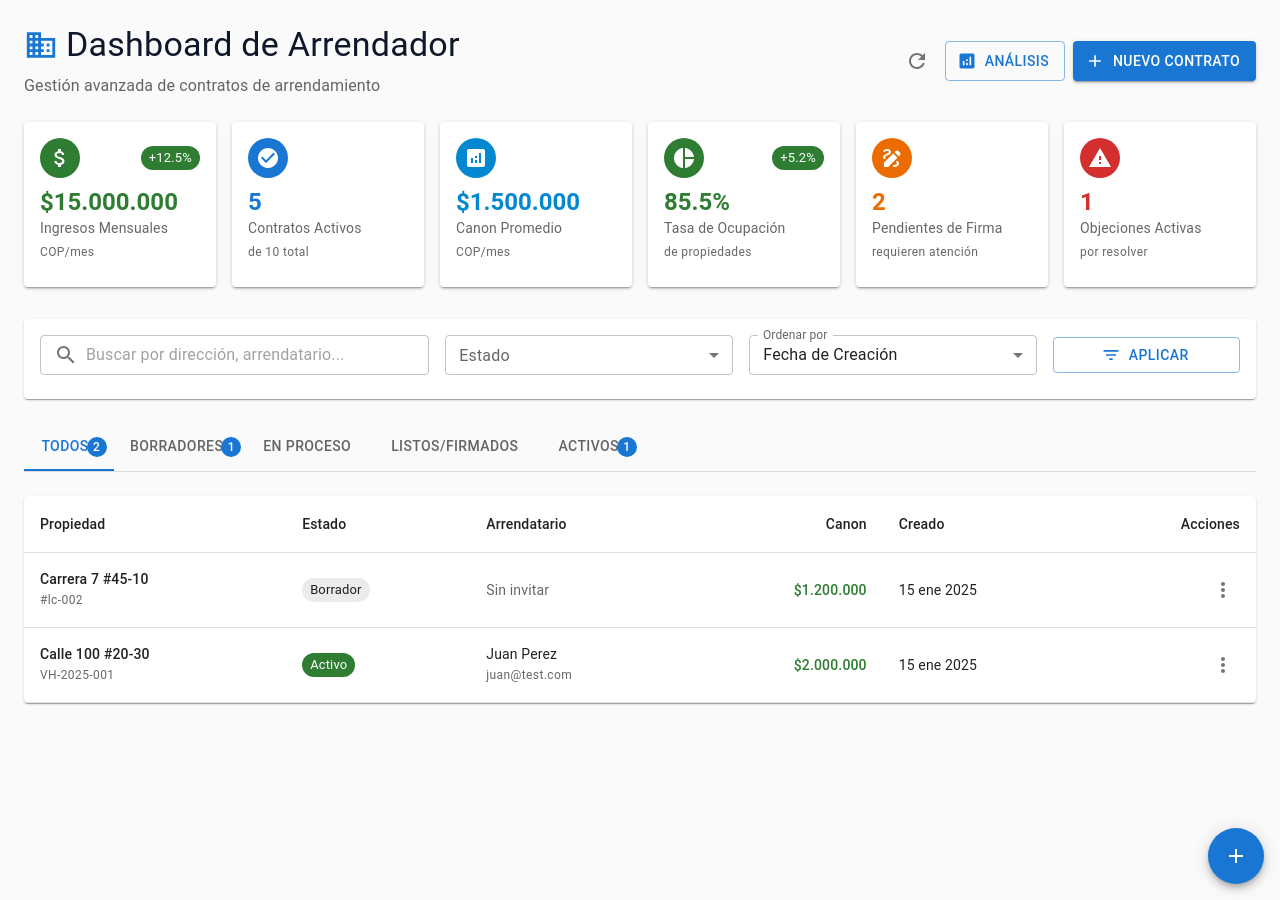
Test: LandlordContractsDashboard › should open create dialog when Nuevo Contrato is clicked
This screenshot has width=1280, height=900.
# Click the header button (not the FAB)
Click the button "Nuevo Contrato" at [1164, 61], box [1073, 41, 1256, 81]
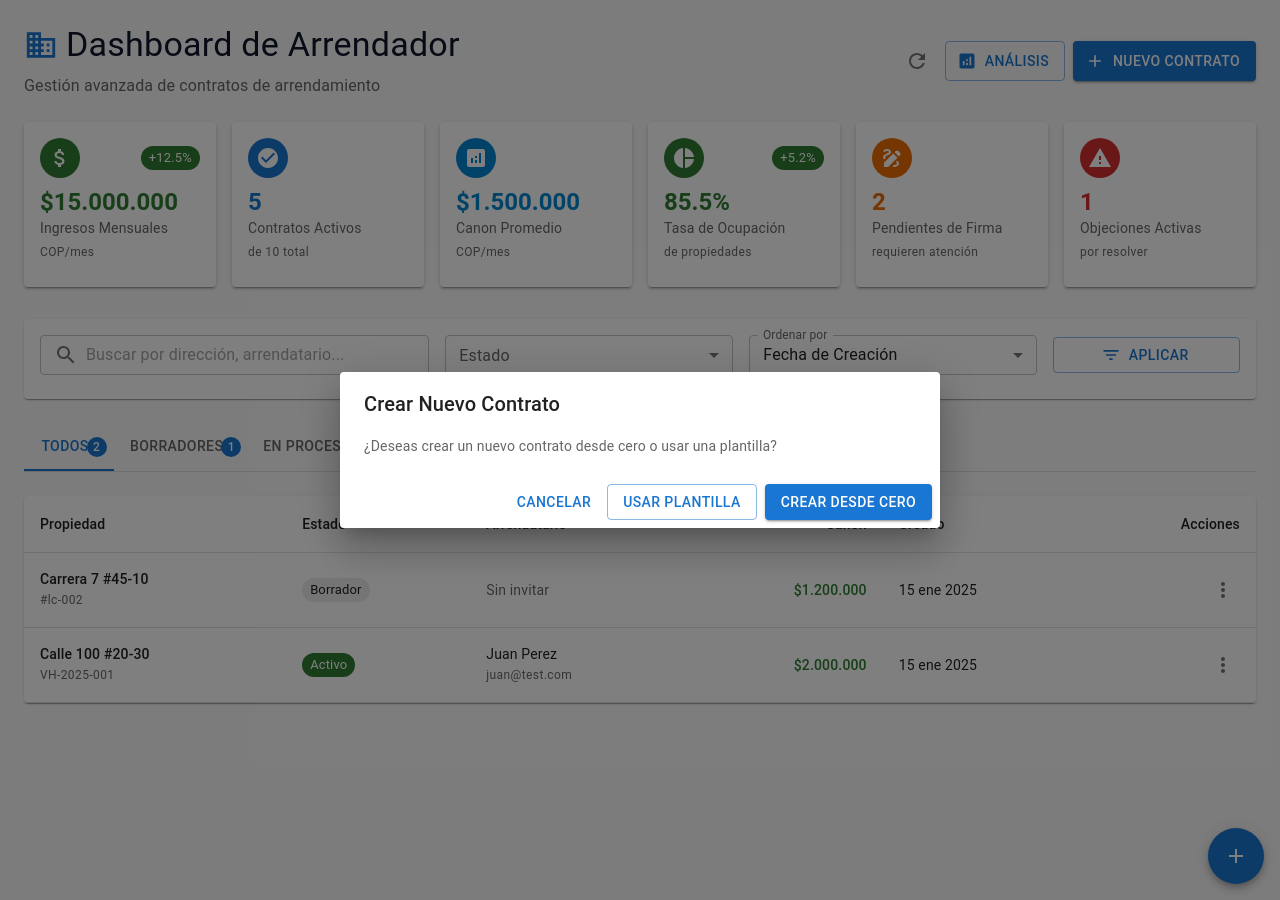
Check: the heading "Crear Nuevo Contrato" is shown, box [364, 392, 560, 416]
